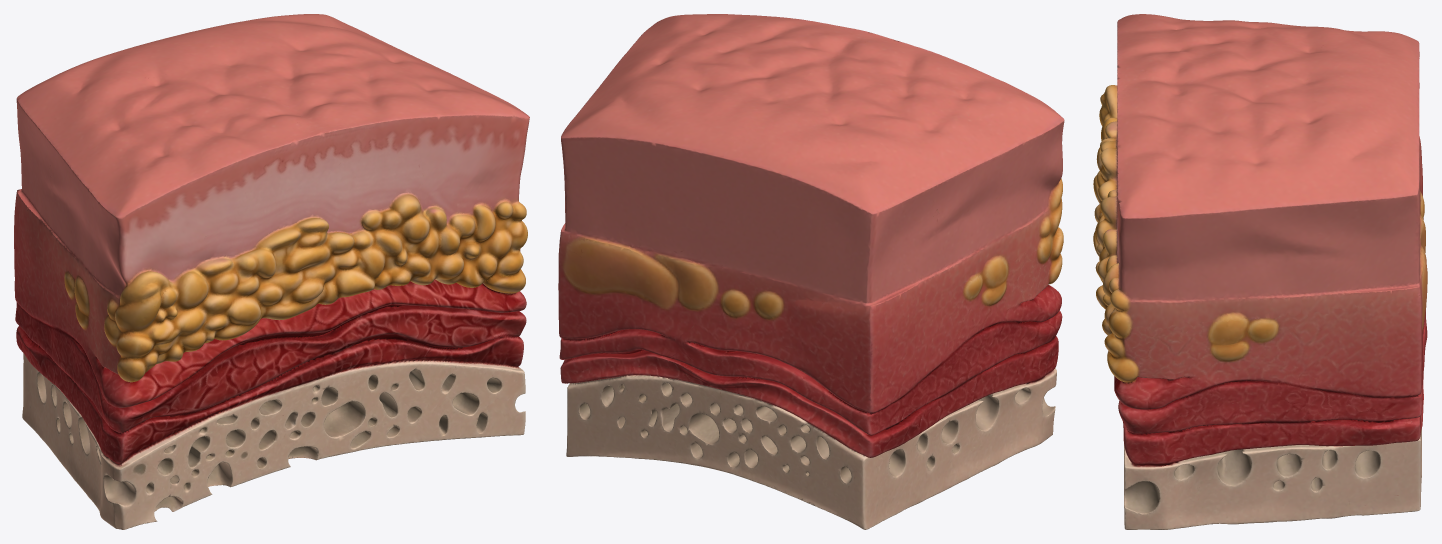
The model's file is skin_layers_draco.glb.
3 views of the same model, side by side, from view 1: azimuth 30°, elevation 25°; view 2: azimuth 150°, elevation 25°; view 3: azimuth 270°, elevation 25° (orthographic).
Size of the model in its own units: 1.9 by 1.6 by 1.34.
1 material, 1 textured.
